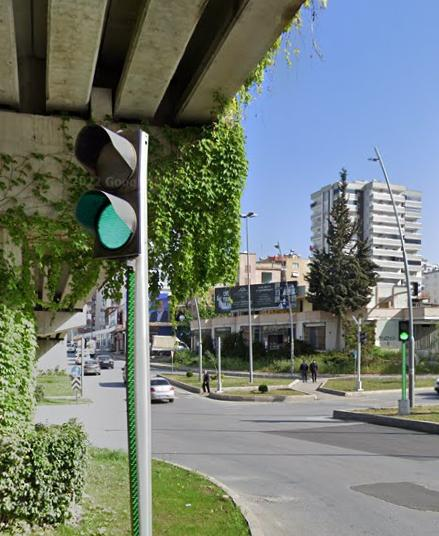greenlight: (79, 122, 151, 262)
